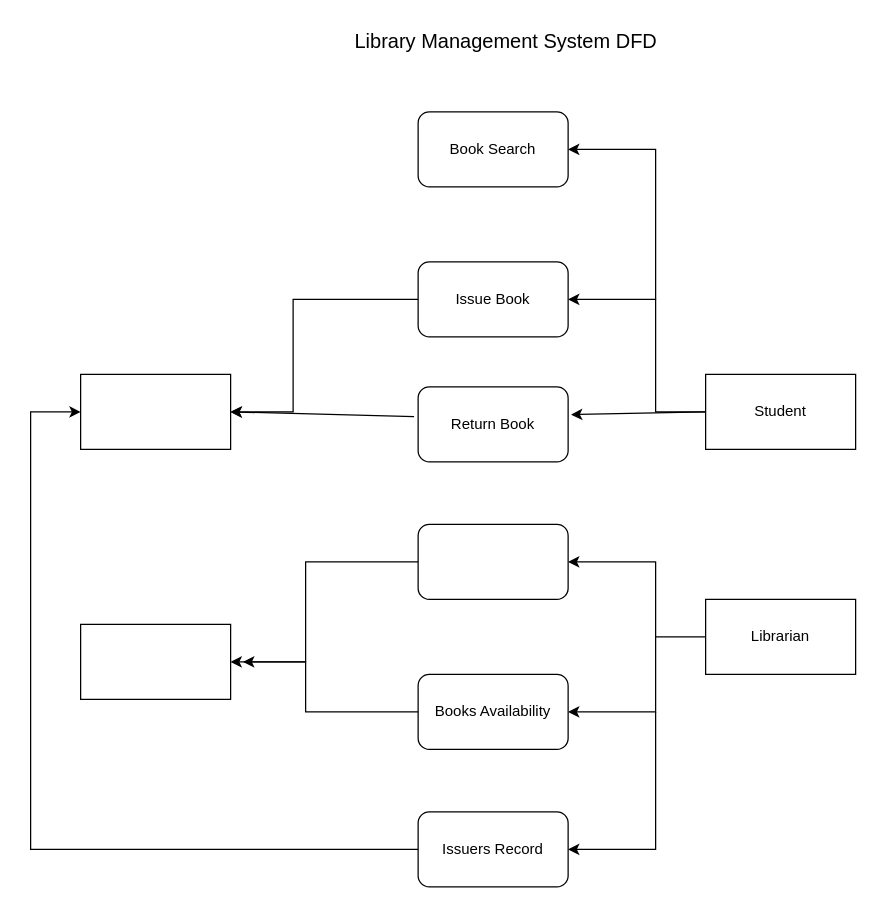
This 878x909 diagram has some shape labels left out. Here are the shapes that lost their labels. From the top down, the centre of each, then its label:
At [155,411]: "Student Database".
At [492,561]: "Add Book".
At [155,661]: "Books Database".
